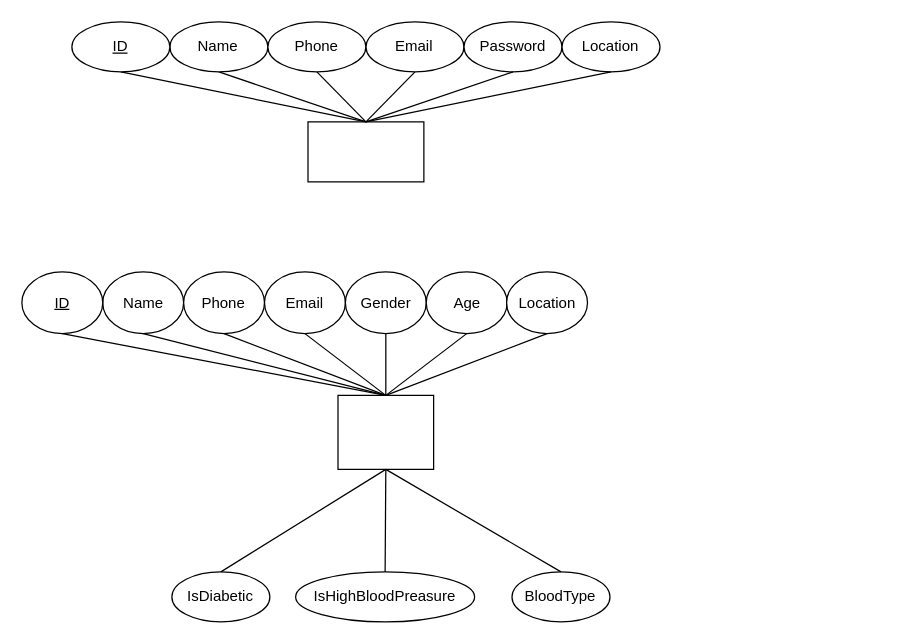
This 919x644 diagram has some shape labels left out. The shapes that lost their labels are listed below. From the top down, each one's centre as x and y in pixels, then its label:
point 365,151: HOSPITAL
point 385,431: DONOR
